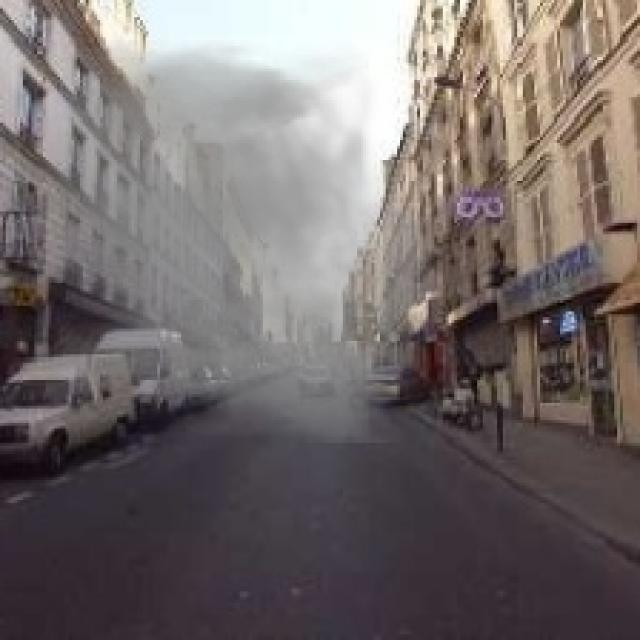smoke: (46, 40, 463, 443)
